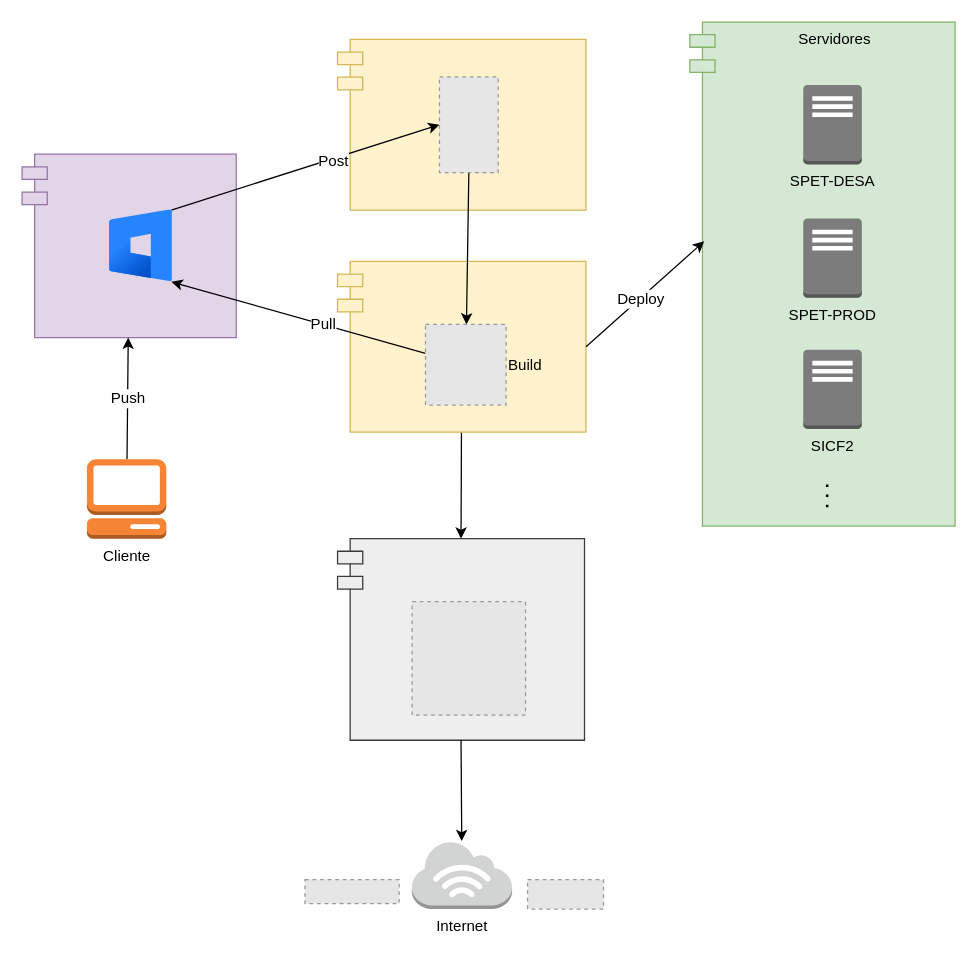
The diagram is 978 pixels wide and 958 high, and some of its shapes have lost their labels. Grey dashed boxes stand in for pictures. The shapes that lost their labels are listed below. From the top down, each one's box as (x1, y1, x2, y2) in pixels, then its label:
(336, 38, 586, 210): Jenkins
(21, 153, 236, 338): Bitbucket
(336, 260, 586, 432): Esclavos
(336, 537, 585, 740): Package Management
